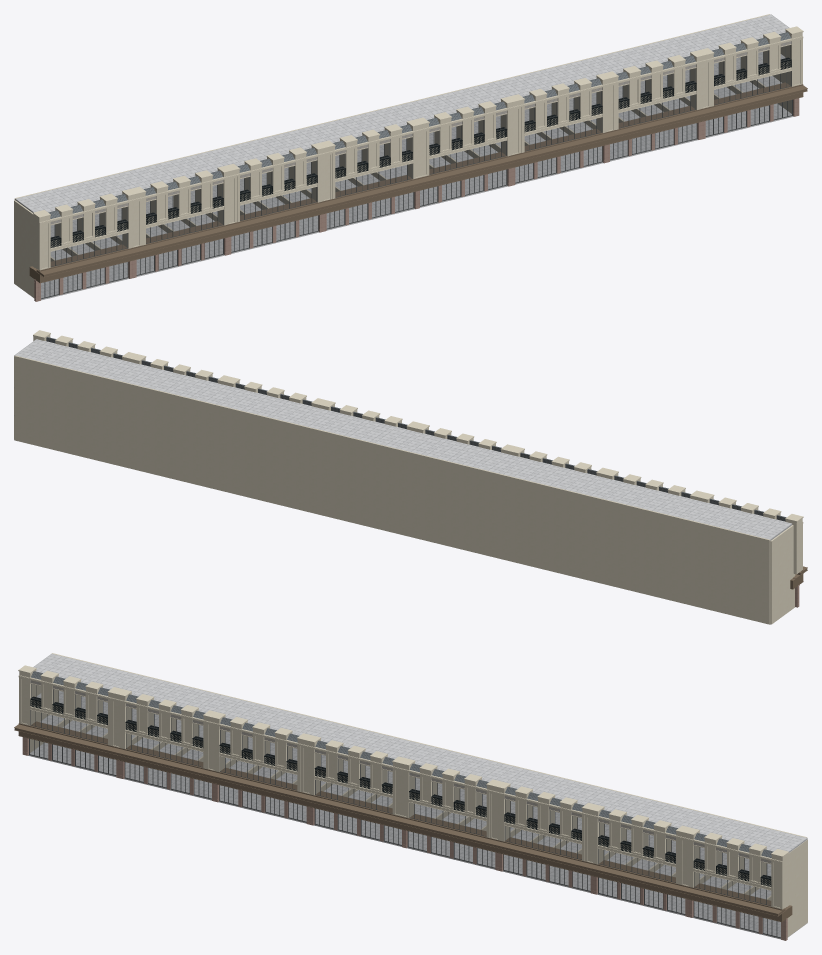
The model's file is gzl_12.FBX.
3 renders of one model, top to bottom at view 1: azimuth 30°, elevation 25°; view 2: azimuth 150°, elevation 25°; view 3: azimuth 330°, elevation 25°, orthographic.
Visible parts, largest first — view 1: Rectangle451, gzl_12, Rectangle444, Rectangle385, Rectangle428, Rectangle391, Line697, Line014, Line010, Rectangle394, Rectangle388, Rectangle384 (+17 smaller); view 2: Line015, Rectangle451, Line014, Rectangle382, Rectangle381, Rectangle408, Rectangle430, Rectangle401, Rectangle437, Rectangle421; view 3: Rectangle451, gzl_12, Rectangle444, Rectangle385, Rectangle428, Rectangle391, Line697, Line014, Line010, Rectangle394, Rectangle388, Rectangle384 (+17 smaller).
Part boxes in pixels (x1=…): Rectangle451: x1=15, y1=14, x2=793, y2=300; gzl_12: x1=29, y1=36, x2=803, y2=297; Rectangle444: x1=51, y1=45, x2=790, y2=266; Rectangle385: x1=41, y1=45, x2=792, y2=299; Rectangle428: x1=131, y1=61, x2=711, y2=247; Rectangle391: x1=36, y1=85, x2=807, y2=277; Line697: x1=50, y1=57, x2=791, y2=247; Line014: x1=14, y1=46, x2=791, y2=297; Line010: x1=32, y1=84, x2=803, y2=276; Rectangle394: x1=34, y1=98, x2=799, y2=301; Rectangle388: x1=33, y1=38, x2=802, y2=270; Rectangle384: x1=122, y1=60, x2=713, y2=248; Line015: x1=14, y1=355, x2=770, y2=624; Rectangle451: x1=14, y1=339, x2=792, y2=624; Line014: x1=14, y1=356, x2=795, y2=624; Rectangle382: x1=122, y1=352, x2=714, y2=502; Rectangle381: x1=99, y1=346, x2=736, y2=508; Rectangle408: x1=55, y1=335, x2=781, y2=519; Rectangle430: x1=173, y1=364, x2=663, y2=490; Rectangle401: x1=77, y1=341, x2=758, y2=513; Rectangle437: x1=150, y1=359, x2=685, y2=495; Rectangle421: x1=195, y1=369, x2=641, y2=485; Rectangle451: x1=28, y1=653, x2=807, y2=939; gzl_12: x1=18, y1=675, x2=792, y2=936; Rectangle444: x1=31, y1=684, x2=770, y2=905; Rectangle385: x1=29, y1=684, x2=780, y2=938; Rectangle428: x1=110, y1=700, x2=690, y2=886; Rectangle391: x1=14, y1=724, x2=785, y2=916; Line697: x1=30, y1=696, x2=771, y2=886; Line014: x1=30, y1=685, x2=807, y2=936; Line010: x1=18, y1=723, x2=789, y2=915; Rectangle394: x1=22, y1=737, x2=787, y2=940; Rectangle388: x1=19, y1=677, x2=788, y2=909; Rectangle384: x1=108, y1=699, x2=699, y2=887.
Size of the model in its own units: 118727 by 13134 by 9097.
9 materials, 5 textured.
